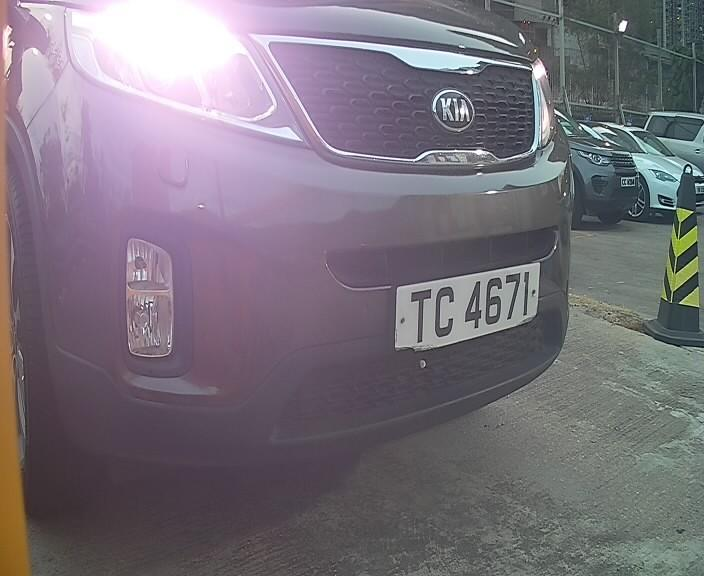privatecar: (26, 6, 598, 463)
